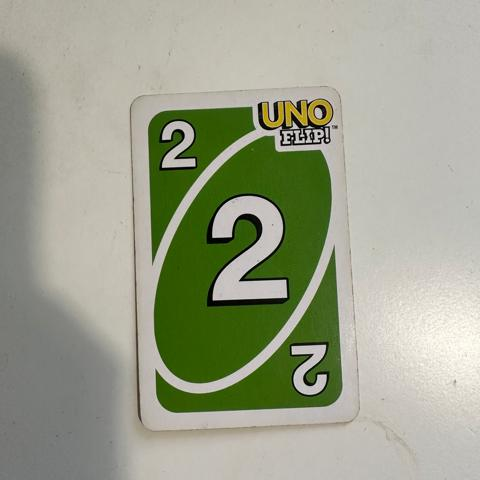lgreen-2: (143, 106, 219, 181)
